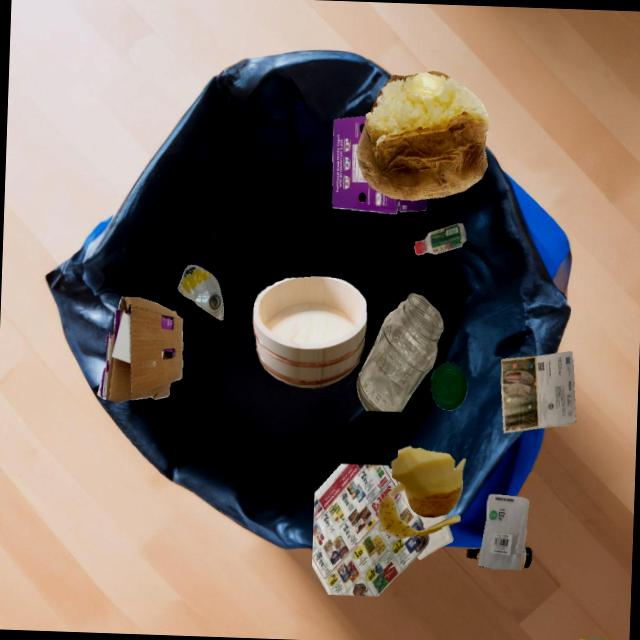biowaste: (356, 71, 489, 200), (378, 445, 465, 538)
cardboard: (332, 115, 426, 214), (96, 296, 183, 402)
combustible waste: (252, 276, 366, 388)
glass: (357, 292, 443, 412), (177, 264, 223, 320), (521, 546, 532, 568), (466, 548, 480, 560)
paper: (311, 463, 429, 596), (501, 351, 575, 433), (417, 524, 453, 559), (417, 513, 446, 529)
plastic: (477, 493, 528, 569), (430, 362, 467, 410), (414, 223, 465, 255)
